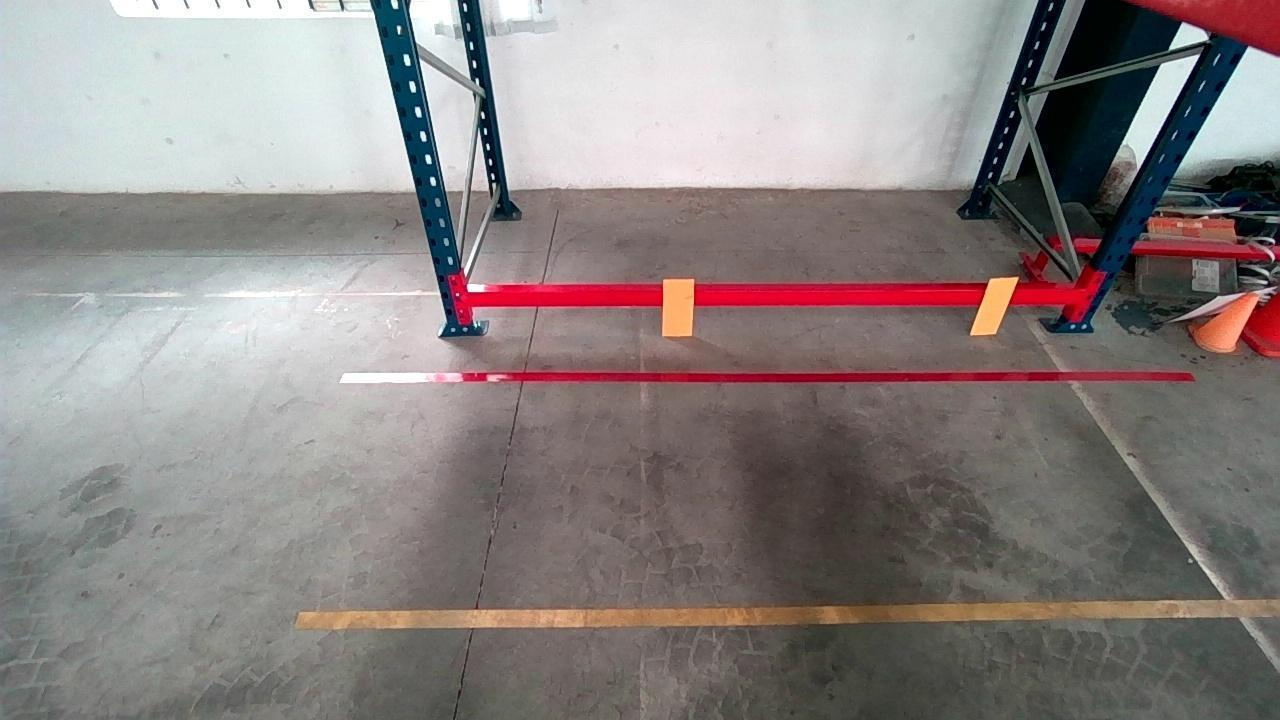red_line: (332, 362, 1198, 393)
yellow_line: (293, 585, 1275, 627)
